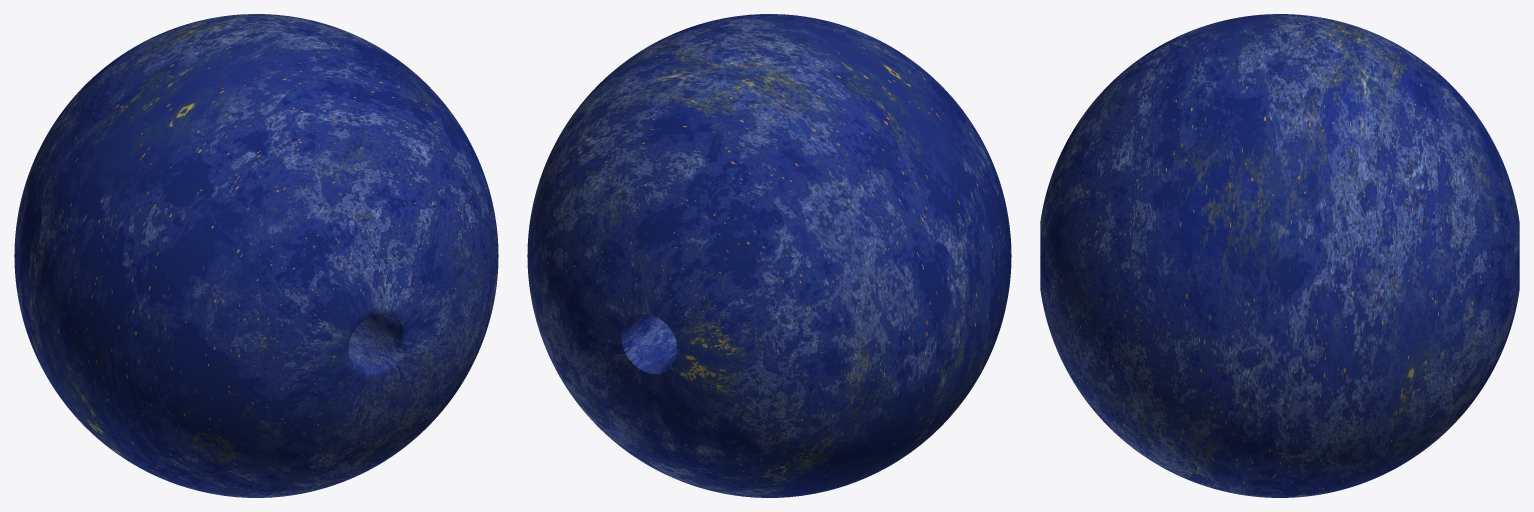
The model's file is lapis-lazuli.glb.
3 views of the same model, side by side, from view 1: azimuth 30°, elevation 25°; view 2: azimuth 150°, elevation 25°; view 3: azimuth 270°, elevation 25° (orthographic).
Visible parts, largest first — view 1: lapis-lazuli; view 2: lapis-lazuli; view 3: lapis-lazuli.
Boxes of the visible parts, x1=… form: lapis-lazuli: x1=14, y1=14, x2=498, y2=497; lapis-lazuli: x1=527, y1=14, x2=1011, y2=497; lapis-lazuli: x1=1040, y1=14, x2=1519, y2=497.
Size of the model in its own units: 0.008 by 0.008 by 0.00793.
Materials: 1 (1 with a texture image).
